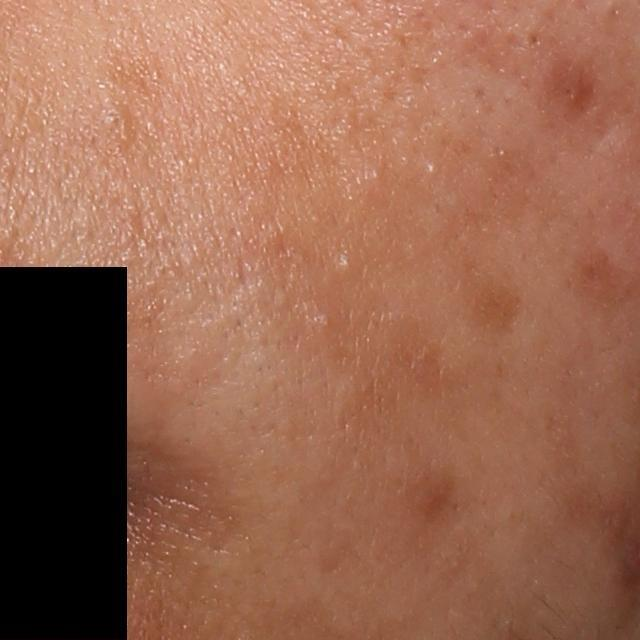comedo: (323, 245, 357, 280), (523, 27, 549, 55)
